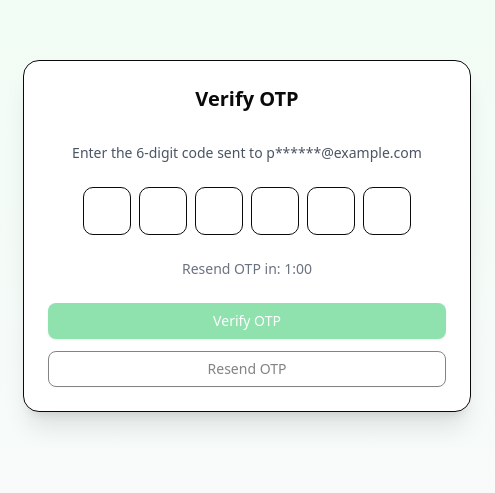
Scenario: Booking OTP verification › allows resend after an expired OTP error
This screenshot has width=495, height=493.
Type "1" into the 1st field at x=107, y=211, box [83,187,131,235]
Type "2" into the 2nd field at x=163, y=211, box [139,187,187,235]
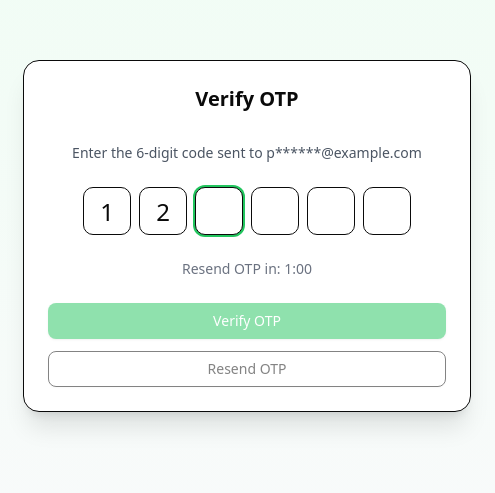
Type "3" into the 3rd field at x=219, y=211, box [195,187,243,235]
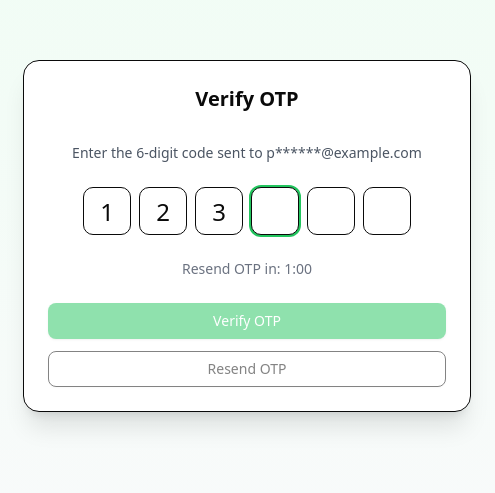
Type "4" into the 4th field at x=275, y=211, box [251,187,299,235]
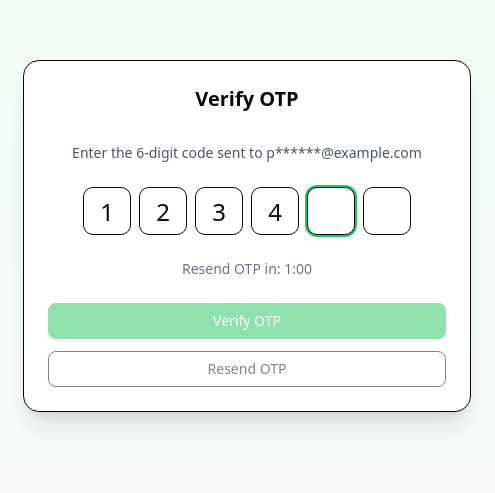
Type "5" into the 5th field at x=331, y=211, box [307,187,355,235]
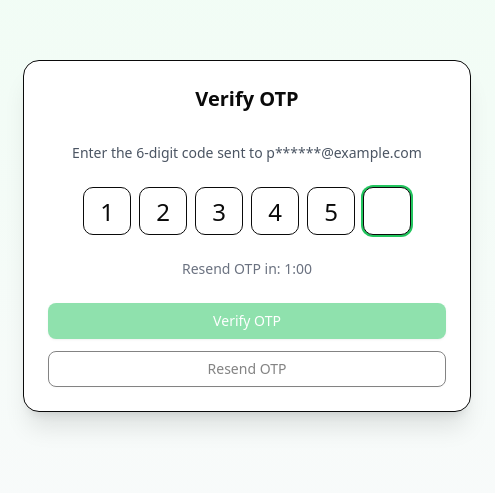
Type "6" into the 6th field at x=387, y=211, box [363,187,411,235]
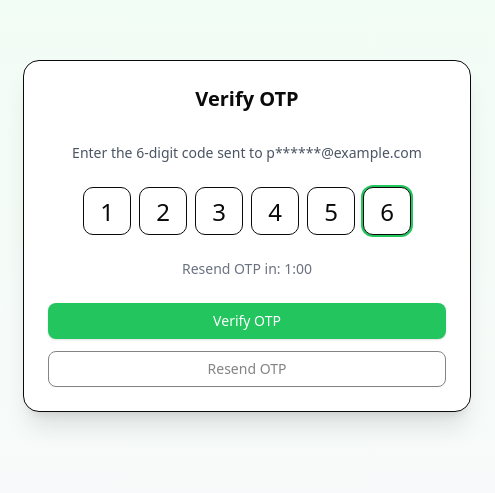
Click the button "Verify OTP" at x=247, y=321, box [48,303,446,339]
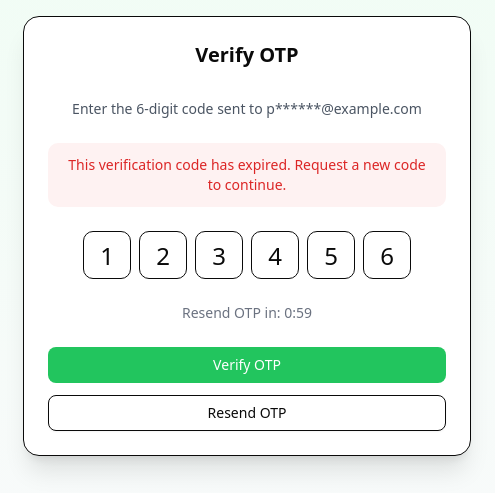
Expected: the message shows "expired", [68,155,426,194]
Expected: the button "Resend OTP" is enabled, [48,395,446,431]
